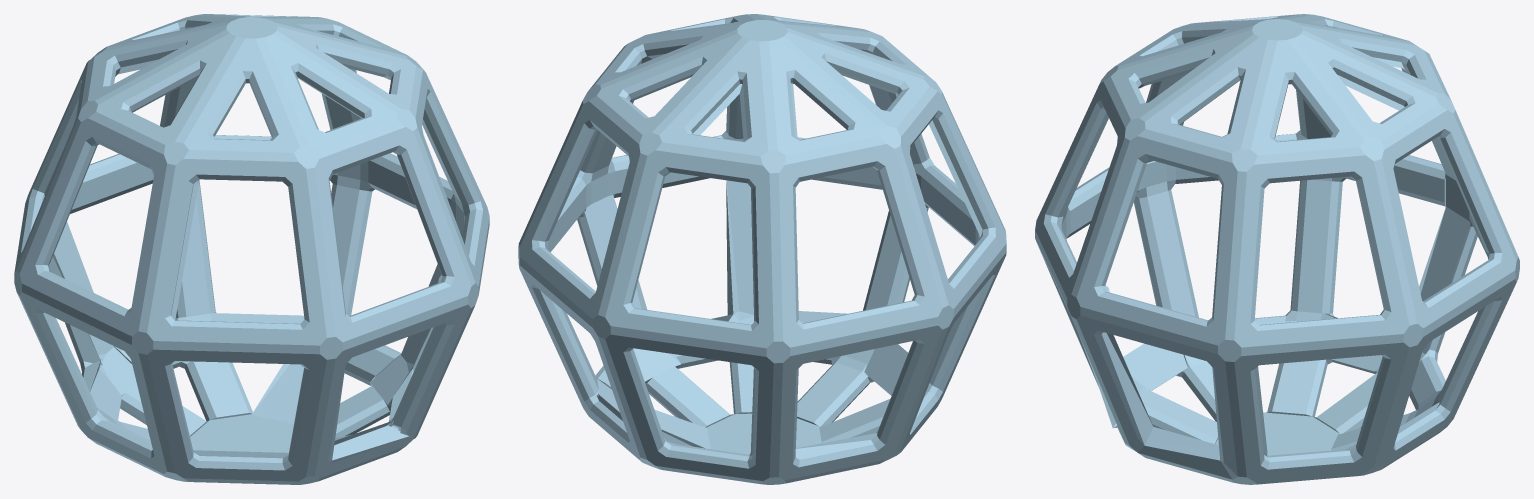
Rendered from Internet.glb.
3 renders of one model, left to right at view 1: azimuth 30°, elevation 25°; view 2: azimuth 150°, elevation 25°; view 3: azimuth 270°, elevation 25°, orthographic.
Parts seen in each view (by area): view 1: Sphere; view 2: Sphere; view 3: Sphere.
Part boxes in pixels (x1,y1,x2,y2): Sphere: (14,14,489,484); Sphere: (518,14,1006,484); Sphere: (1035,14,1519,484).
Size of the model in its own units: 1 by 1 by 1.
